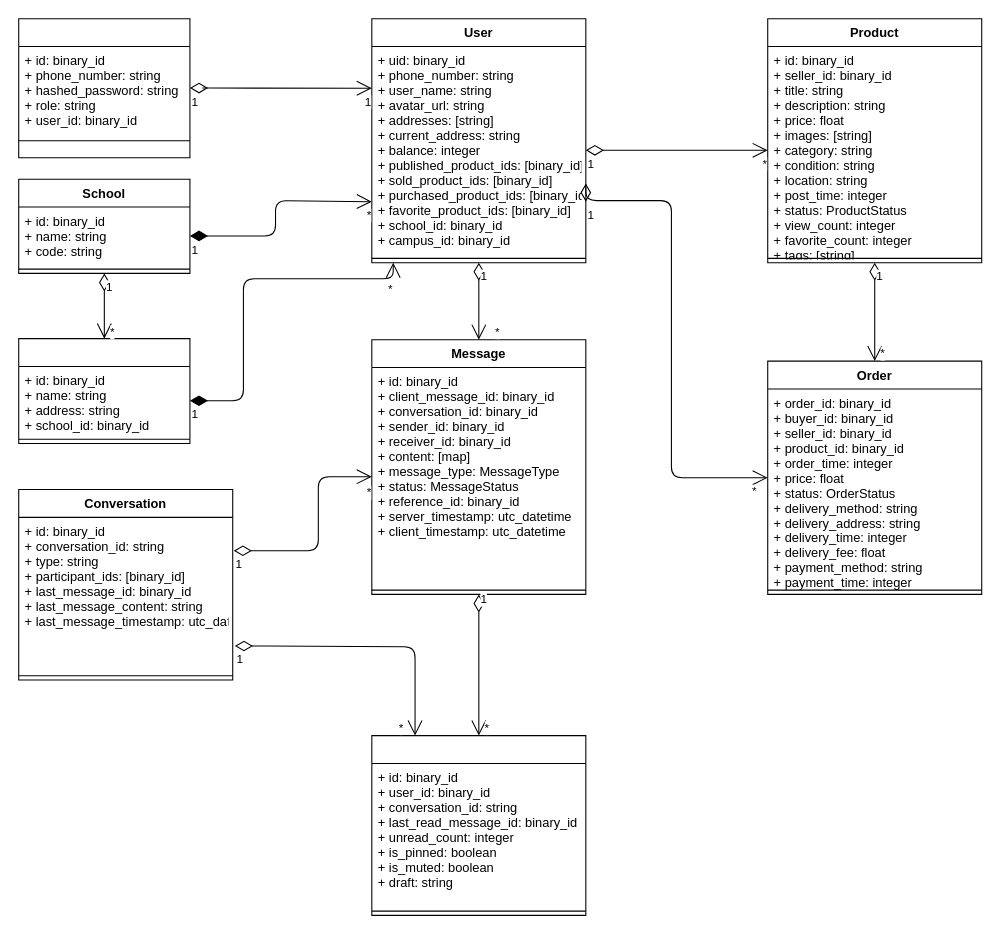
Some shapes in this 1000 by 934 pixel diagram are drawn without their labels. The box of each missing label's shape, as (x1, y1, x2, y2) in pixels:
Account: (18, 18, 190, 158)
Campus: (18, 338, 190, 444)
UserConversation: (371, 735, 586, 915)
